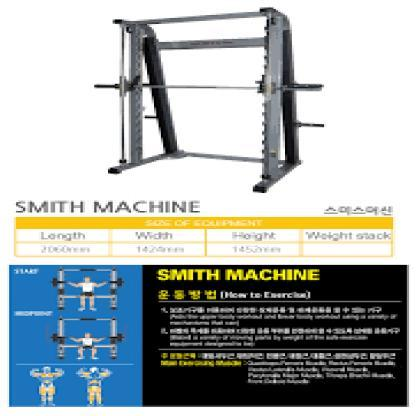smith machine: (94, 7, 325, 193)
